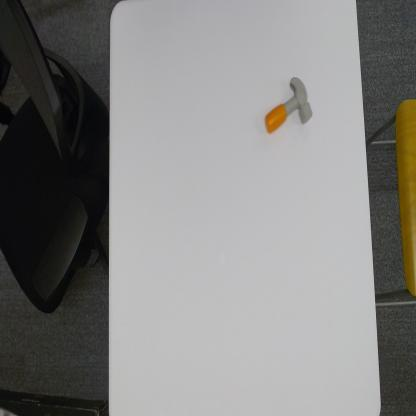Hammer: (264, 74, 313, 135)
